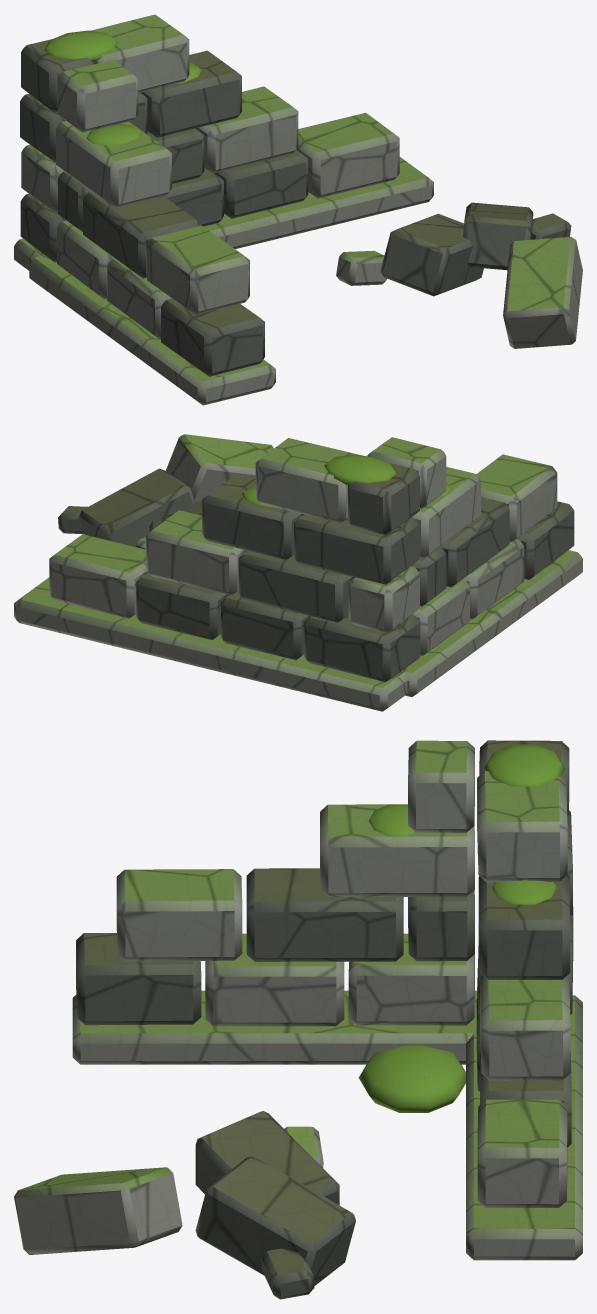
Rendered from stone_wall_corner.glb.
3 renders of one model, top to bottom at view 1: azimuth 30°, elevation 25°; view 2: azimuth 150°, elevation 25°; view 3: azimuth 270°, elevation 25°, orthographic. The views are drawn at different scales.
Parts seen in each view (by area): view 1: stone_wall_corner; view 2: stone_wall_corner; view 3: stone_wall_corner.
Boxes of the visible parts, left/top/right/bottom form: stone_wall_corner: left=14, top=14, right=582, bottom=405; stone_wall_corner: left=14, top=434, right=582, bottom=711; stone_wall_corner: left=14, top=740, right=582, bottom=1299.
Size of the model in its own units: 4.26 by 2.22 by 3.6.
Materials: 3 (3 with a texture image).
